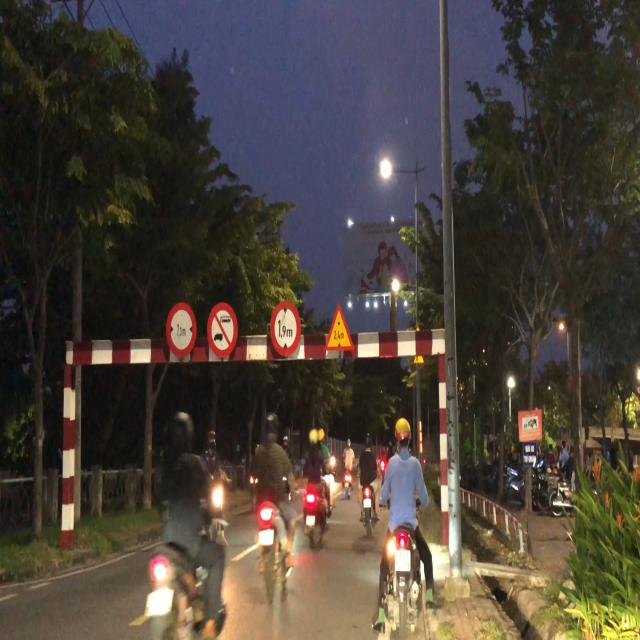Bien bao cam xe oto khach va xe oto tai: (206, 292, 242, 363)
Bien bao chieu cao tinh khong thuc te: (323, 298, 357, 354)
Bien bao han che chieu cao: (266, 297, 306, 363)
